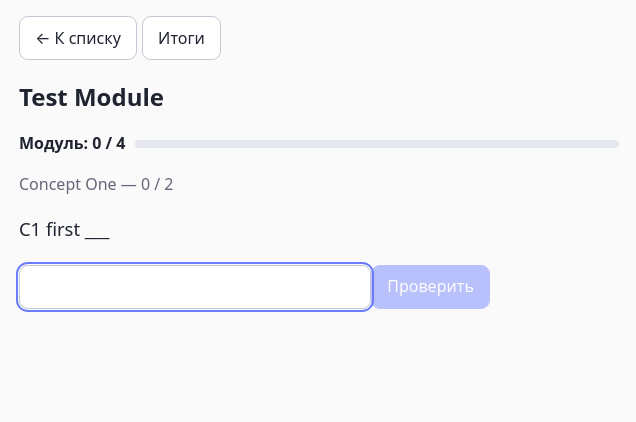
Training › keeps the answered card and its result on screen until "Дальше" (multi-concept)
Expected: the text "C1 first ___" is shown, [19,216,109,241]
Type "a" into the field at (195, 287), box [19,265,371,309]
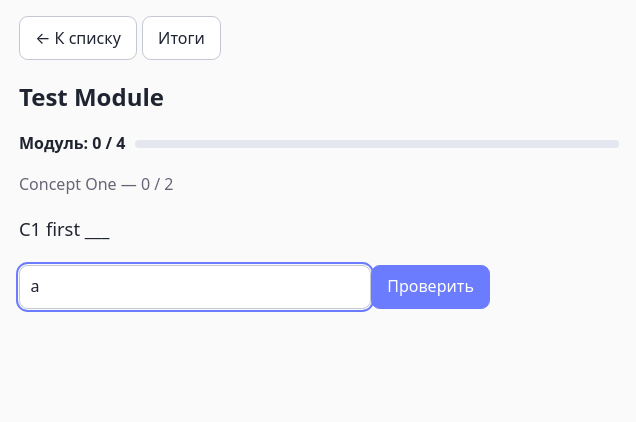
Click the button "Проверить" at (431, 287), box [371,265,490,309]
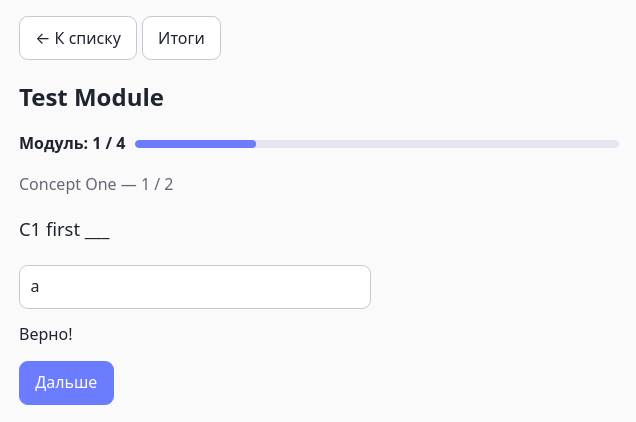
Expected: the text "C1 first ___" is shown, [19,216,109,241]
Expected: the text "Верно!" is shown, [19,323,72,345]
// advancing moves on (c1 now scored higher, so c2 becomes the lowest concept)
Click the button "Дальше" at (66, 383), box [19,361,114,405]
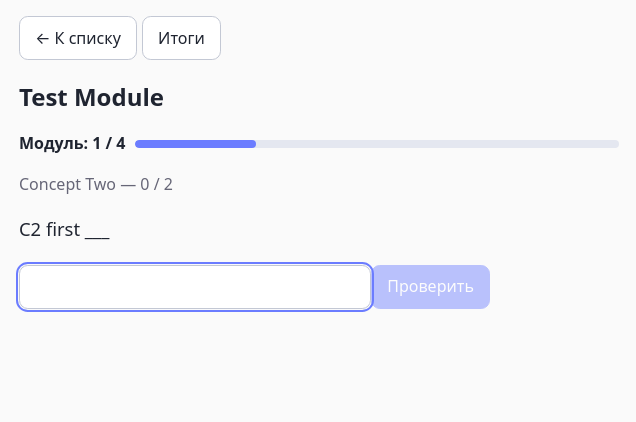
Expected: the text "C2 first ___" is shown, [19,216,109,241]
Expected: the text "Верно!" is gone
